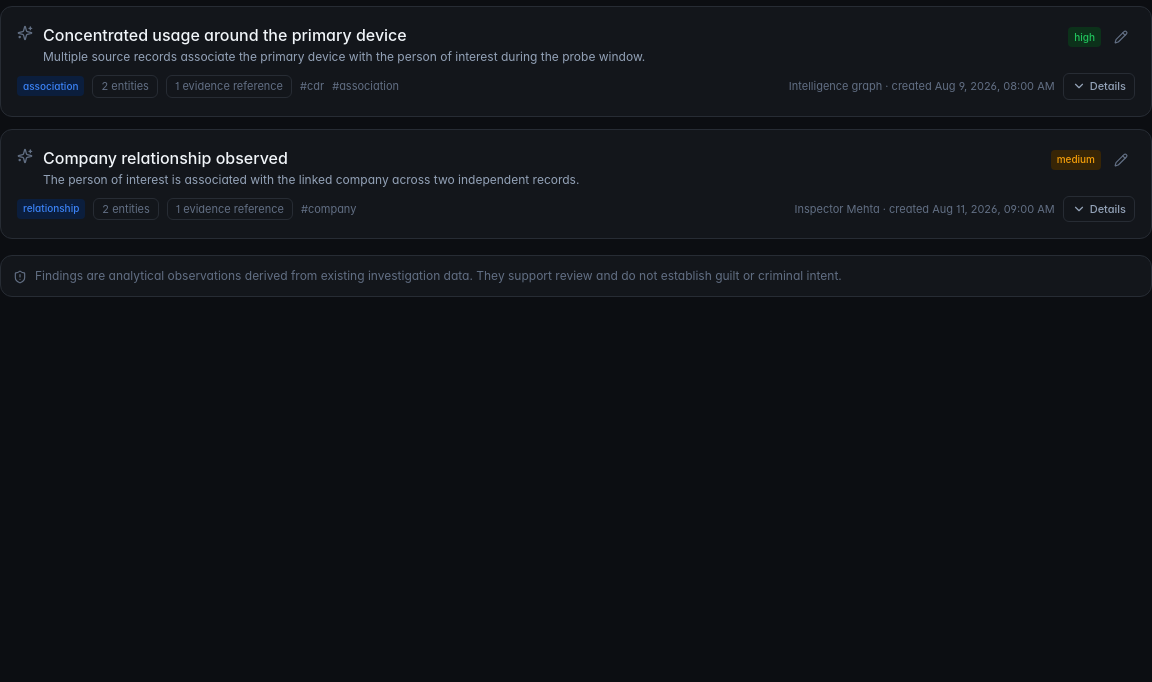
Test: InvestigationFindingsTab — Phase 28 surface › expands a finding into its detail panel with grounded evidence context
Click the button with test id "finding-expand-inf-001-1" at (1099, 86), box [1063,73,1135,100]
(page scrolled)
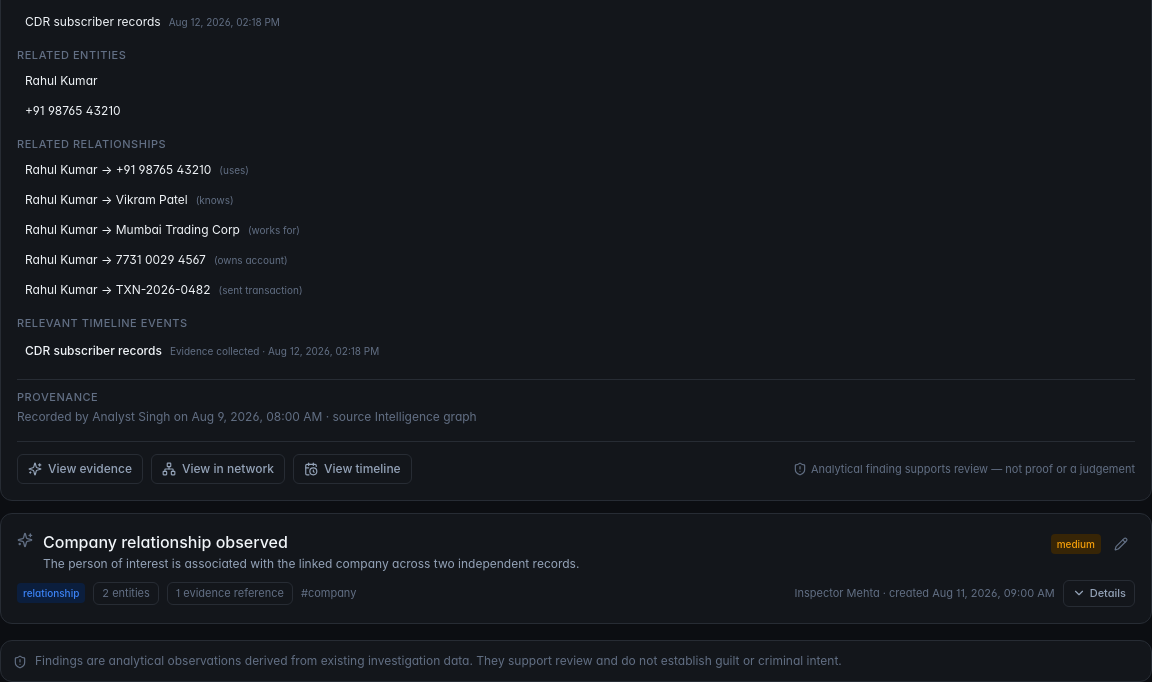
Expected: the button with test id "detail-finding-evidence-ev-004" shows "CDR subscriber records", [17,10,1135,34]
